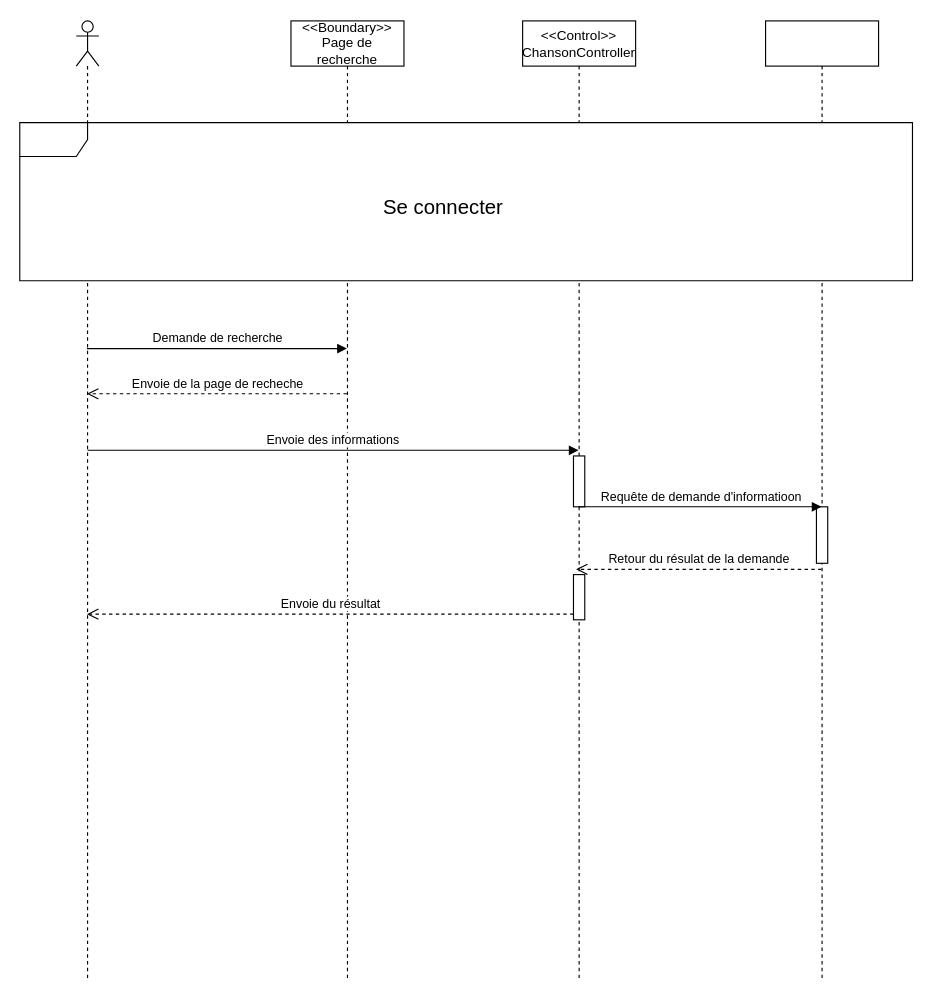
Image size: 932x1001. Some labels were removed from this diagram. Each missing label, with the box of its shape:
<<Entity>> Chanson: (764, 20, 879, 981)
Ref: (19, 121, 912, 281)
